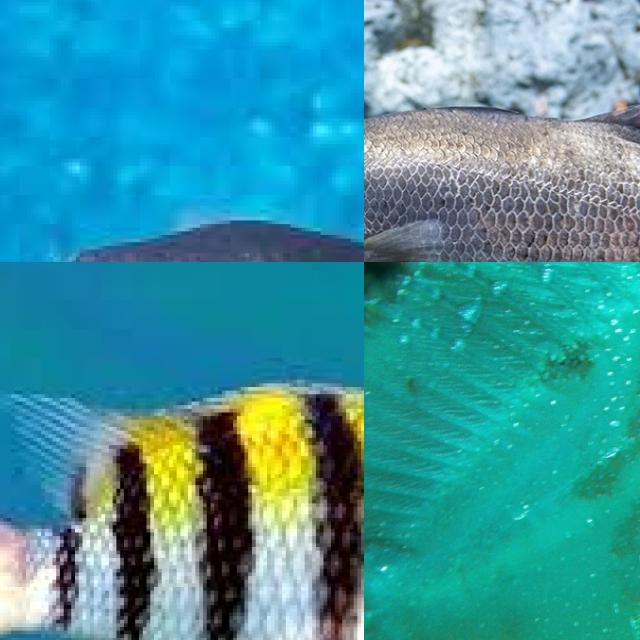fish: (0, 339, 364, 640), (364, 262, 640, 640), (0, 0, 364, 262), (364, 85, 640, 262)
